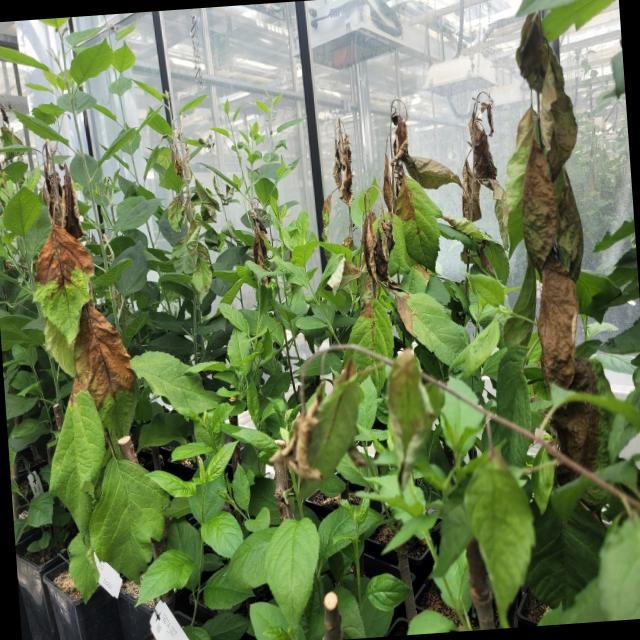-FireBlight-: (454, 20, 618, 462), (37, 140, 140, 522), (359, 89, 467, 288), (267, 380, 330, 495), (329, 112, 357, 212), (245, 193, 273, 282)
